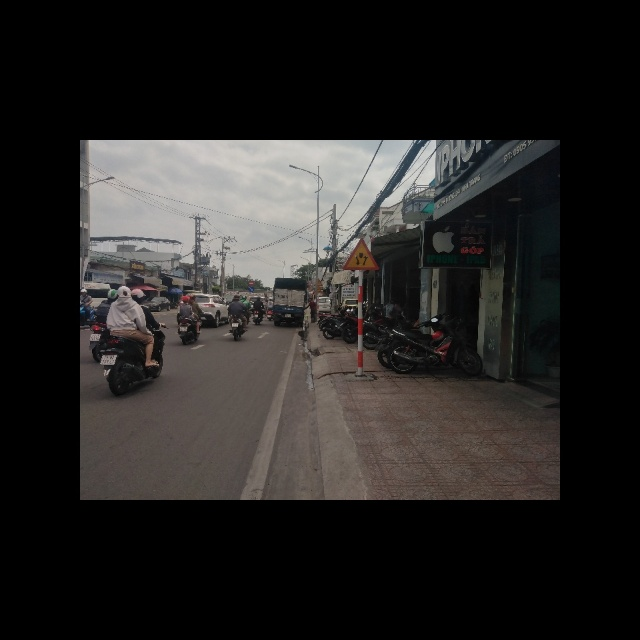Đường đôi: (341, 238, 378, 271)
